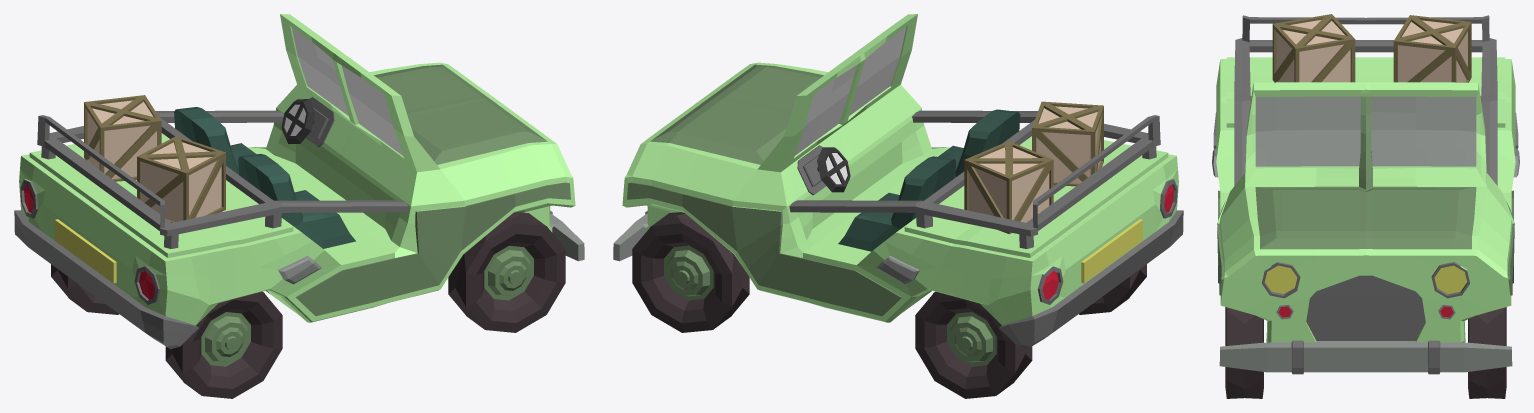
The model's file is Auto.fbx.
3 renders of one model, left to right at view 1: azimuth 30°, elevation 25°; view 2: azimuth 150°, elevation 25°; view 3: azimuth 270°, elevation 25°, orthographic.
Visible parts, largest first — view 1: Jeep01; view 2: Jeep01; view 3: Jeep01.
Part boxes in pixels (x1,y1,x2,y2): Jeep01: (14,14,584,398); Jeep01: (613,14,1183,398); Jeep01: (1212,14,1519,398).
Size of the model in its own units: 3.57 by 2 by 2.17.
